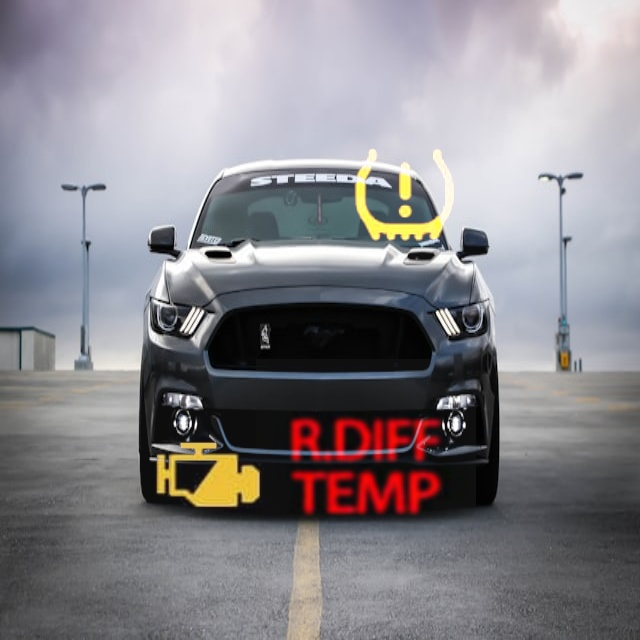symbol: (256, 359, 476, 579), (321, 111, 490, 280), (133, 401, 282, 550)
